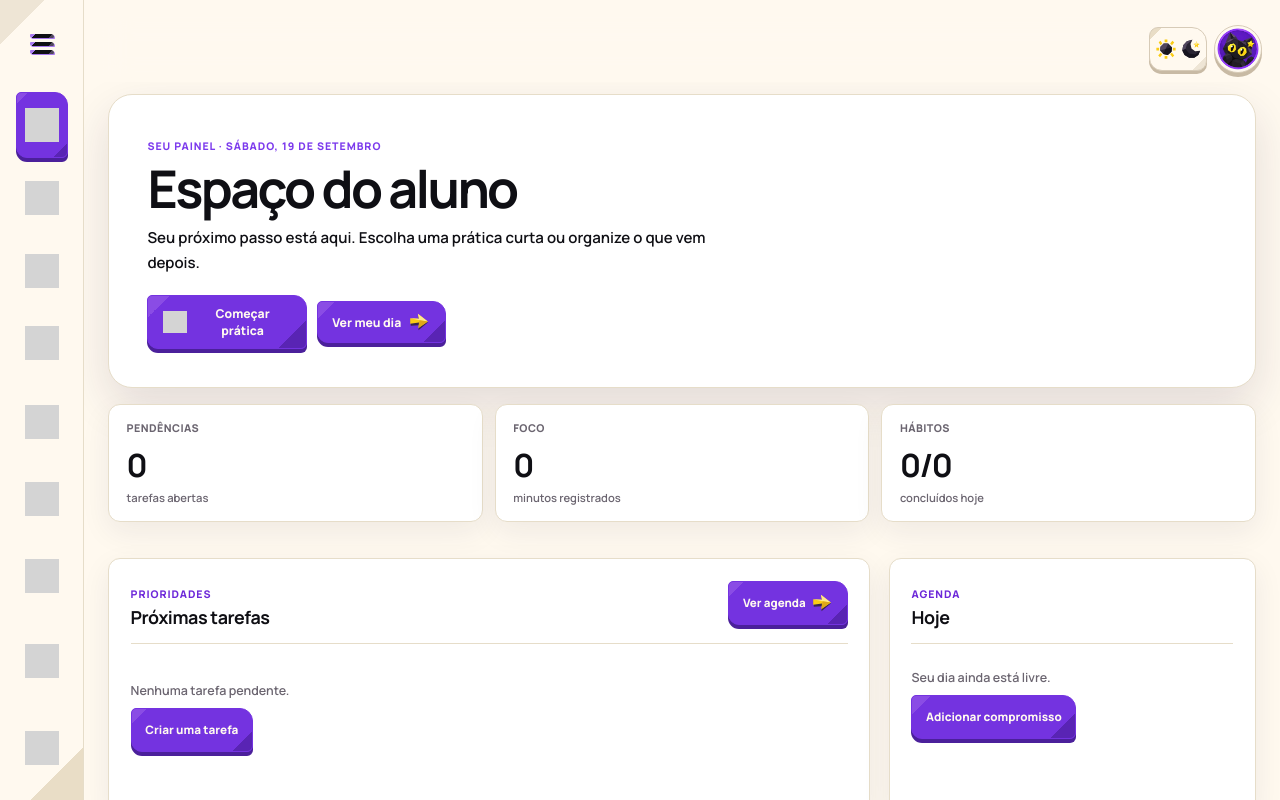
it: App › apresenta a marca textual sem avisos ou mascote decorativa no cabeçalho
Expected: the heading "Espaço do aluno" is shown, [147, 153, 517, 224]
What coordinates should you click on to do the following:
click the button named "Expandir menu lateral"
I would click on:
 (42, 44)
Its box is [16, 18, 68, 70].
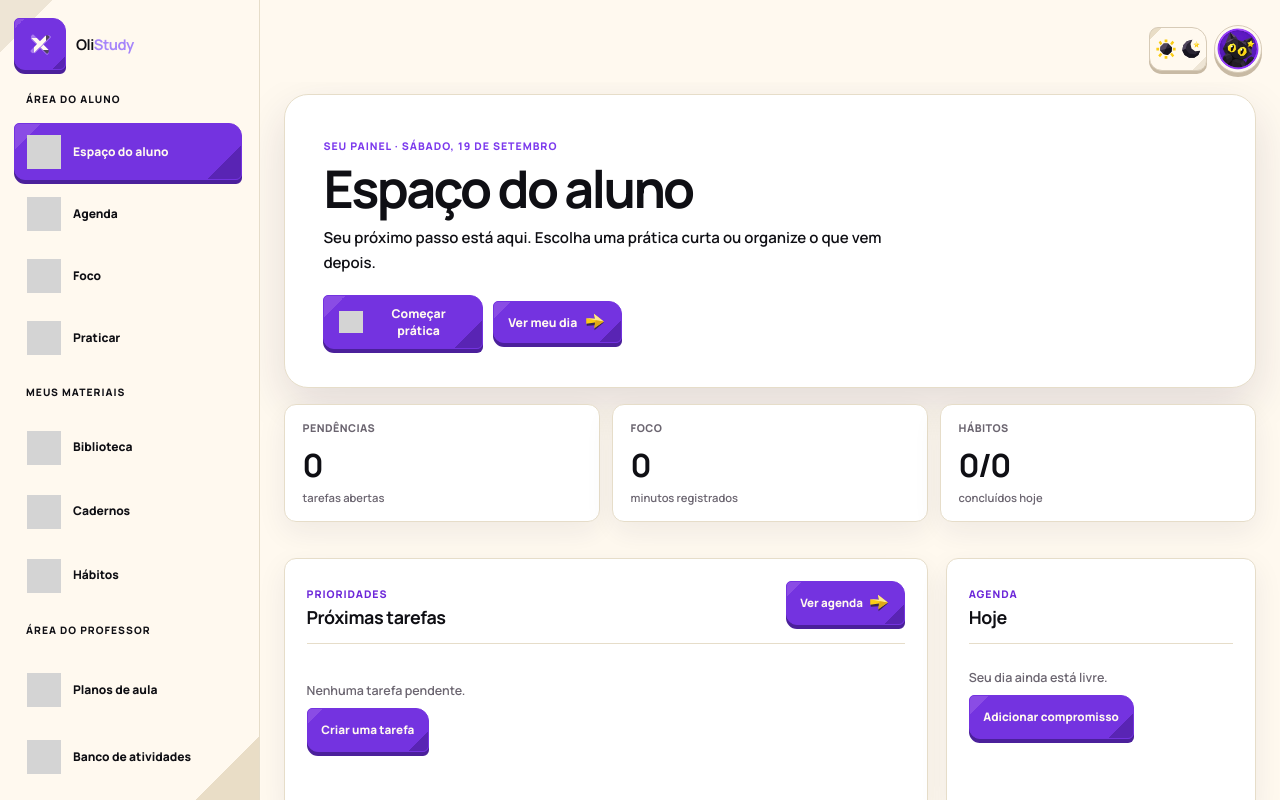
Expected: the element labelled "OliStudy" is shown, [76, 37, 134, 51]
